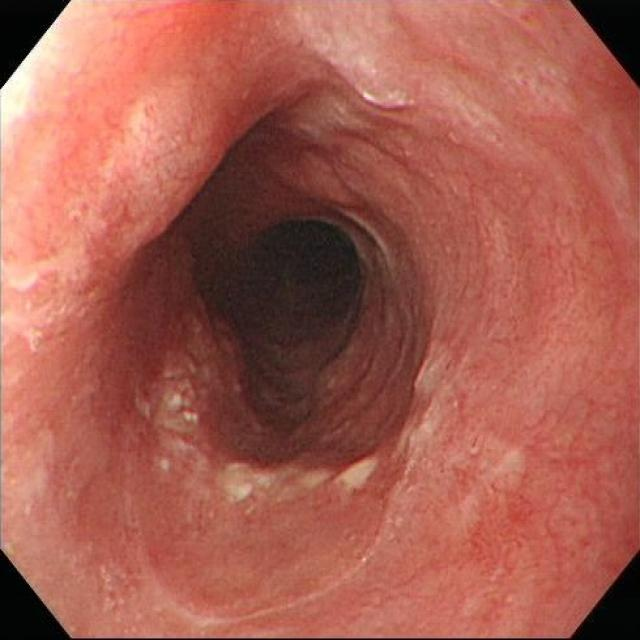A: (465, 491, 535, 571)
B: (53, 67, 245, 267), (159, 300, 248, 433)
E: (244, 214, 368, 342)
J: (214, 460, 377, 502), (400, 341, 459, 457), (357, 73, 417, 114)
